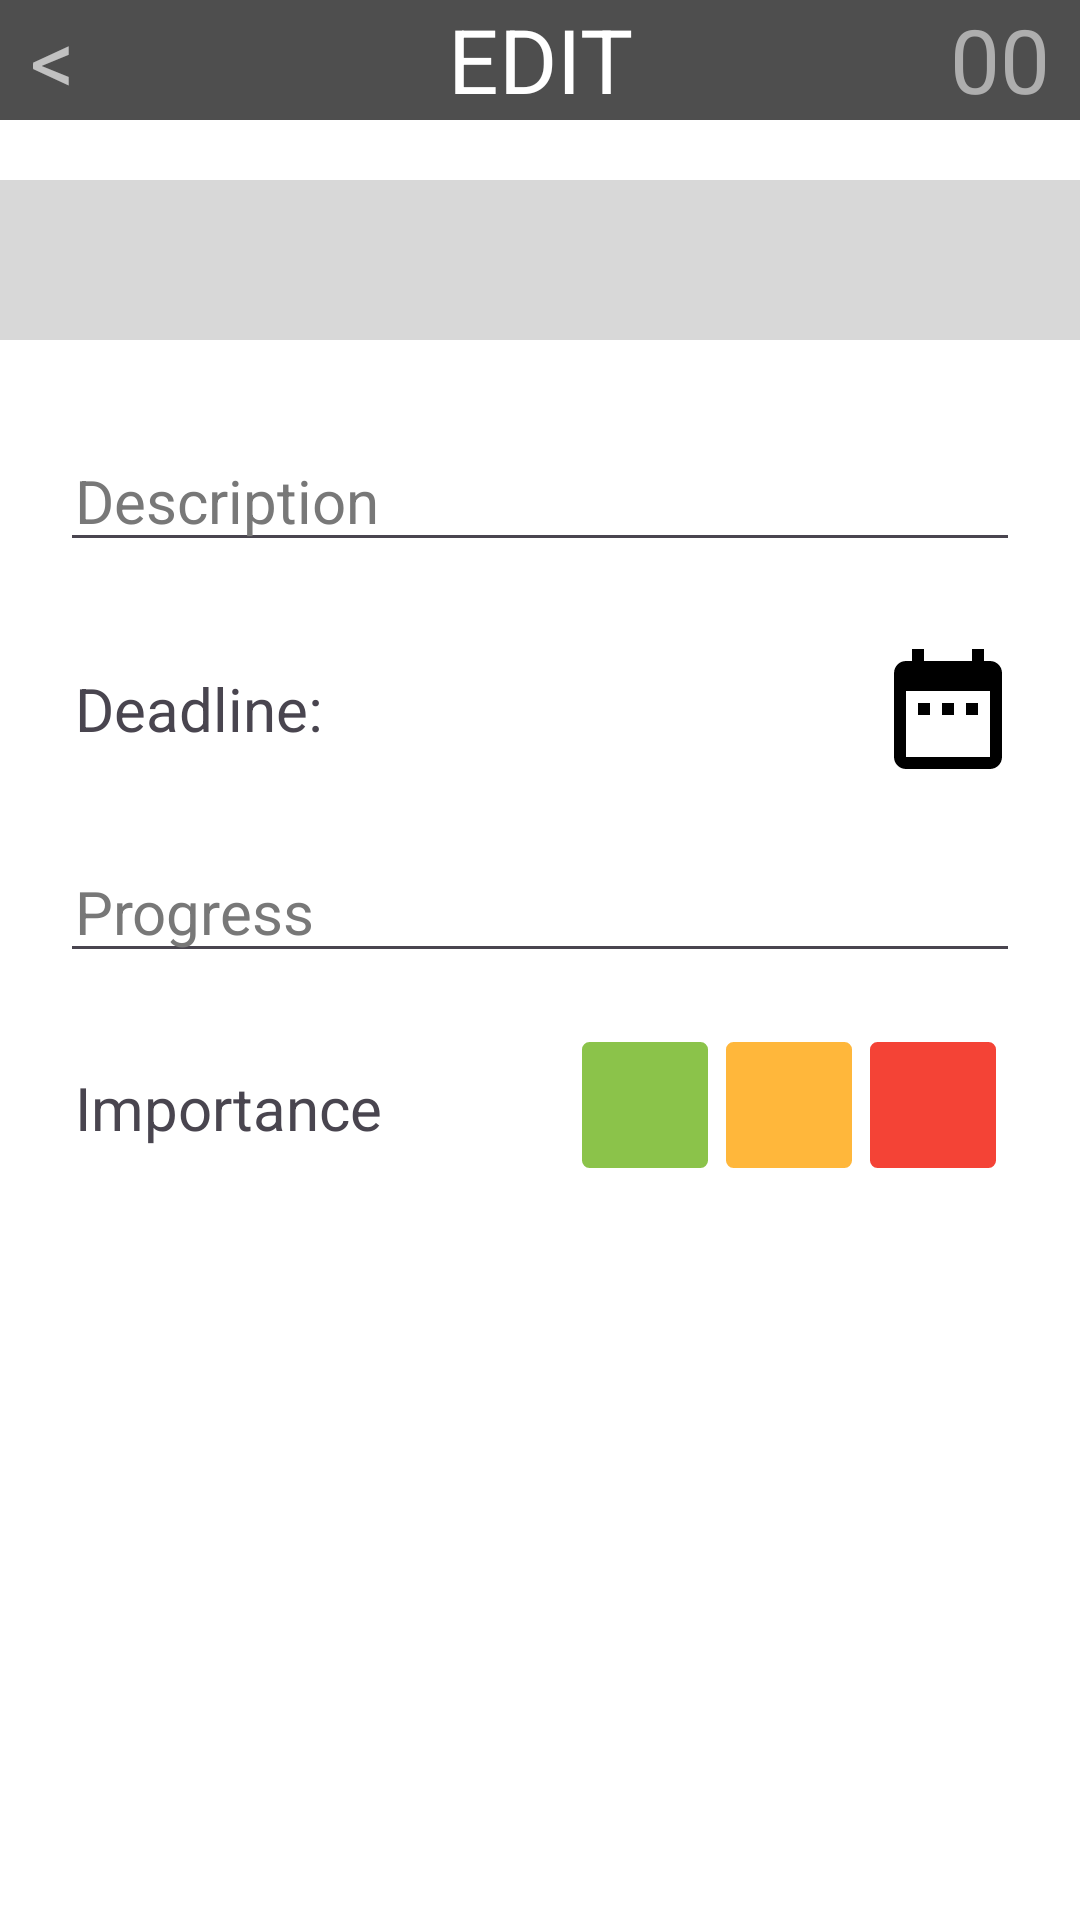

Where icons sit on this 1080px x 1920px app screen, as (x1, y1, x2, y2):
Datepicker: (894, 649, 1002, 769)
